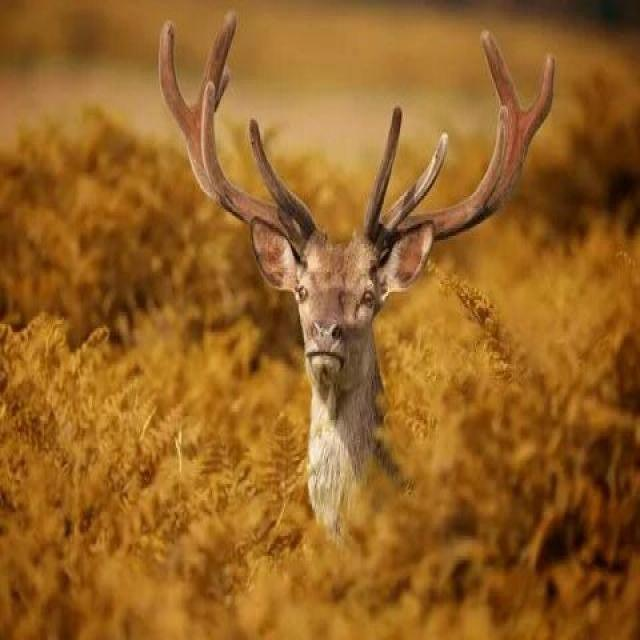deer: (176, 58, 496, 598)
